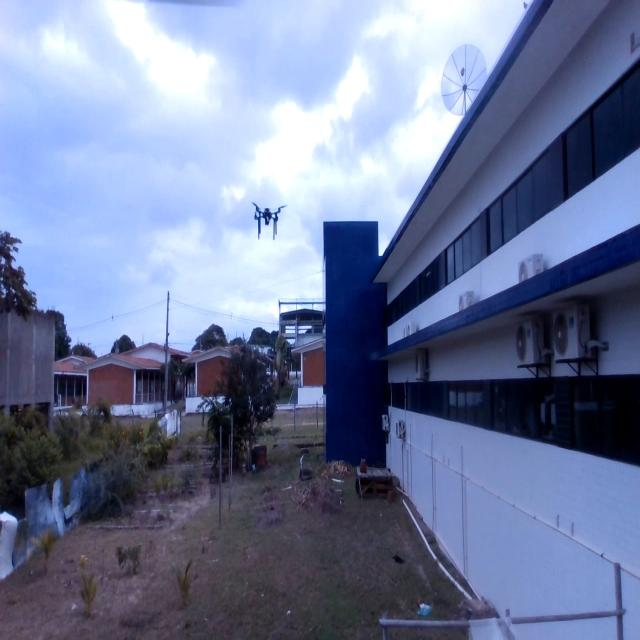-uav-: (243, 187, 296, 254)
